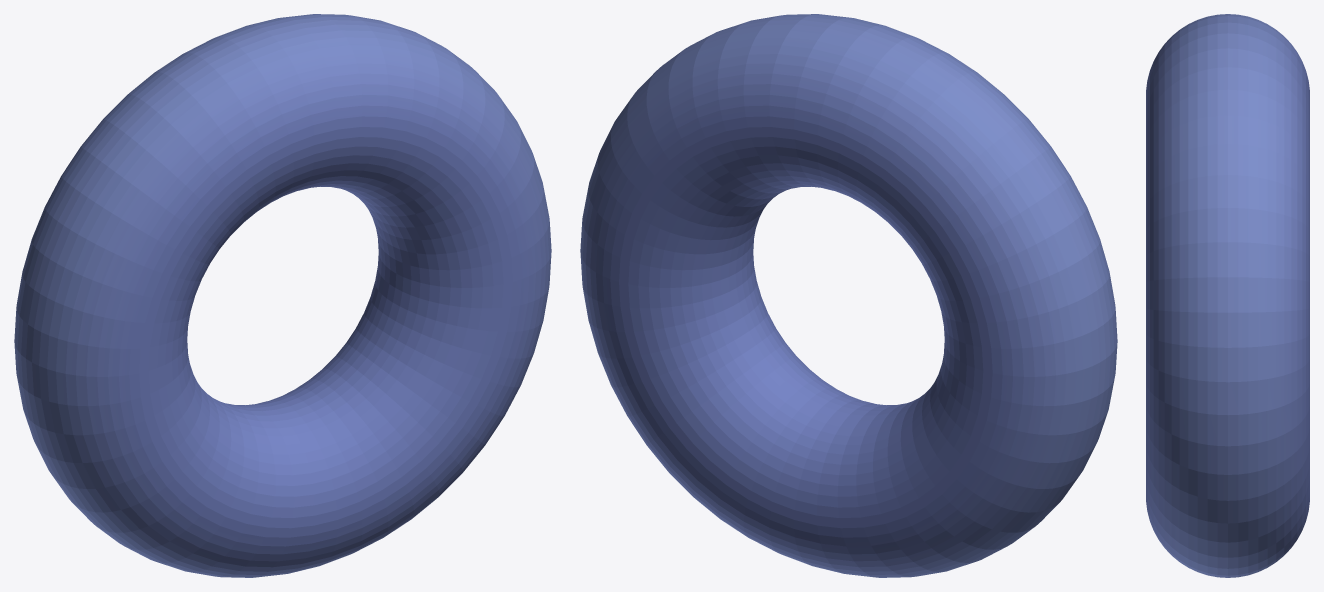
The picture shows the model from 3 angles, left to right: view 1: azimuth 30°, elevation 25°; view 2: azimuth 150°, elevation 25°; view 3: azimuth 270°, elevation 25°; orthographic projection. The views are drawn at different scales.
Parts seen in each view (by area): view 1: world; view 2: world; view 3: world.
Boxes of the visible parts, bbox=[...] form: world: bbox=[14, 14, 551, 577]; world: bbox=[580, 14, 1117, 577]; world: bbox=[1146, 14, 1309, 577].
Size of the model in its own units: 16.93 by 16.9 by 4.92.
